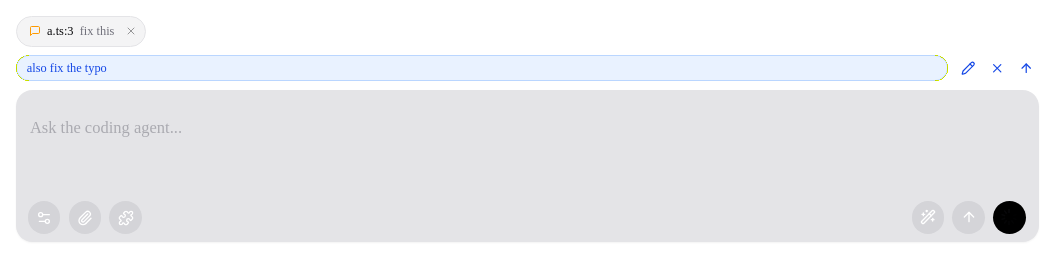
Test: AgentCodeChat composer guards (ticket 03) › aborting with a pending chip returns its text to the textarea as a draft
Click the button named "Send message".
click(1010, 218)  # box [993,201,1026,234]
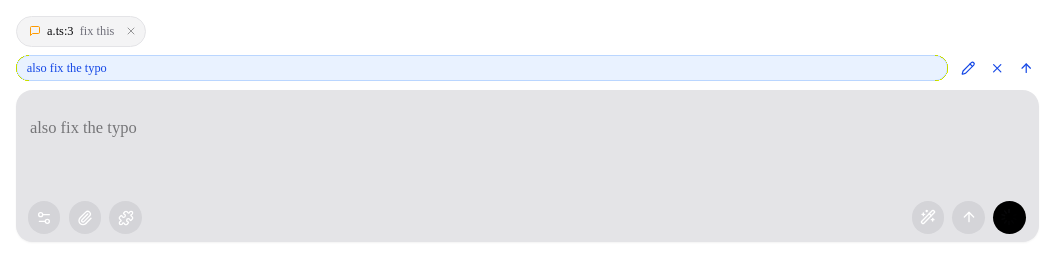
Expected: the text box with test id "chat-input" holds "also fix the typo", [18,100,1036,174]
